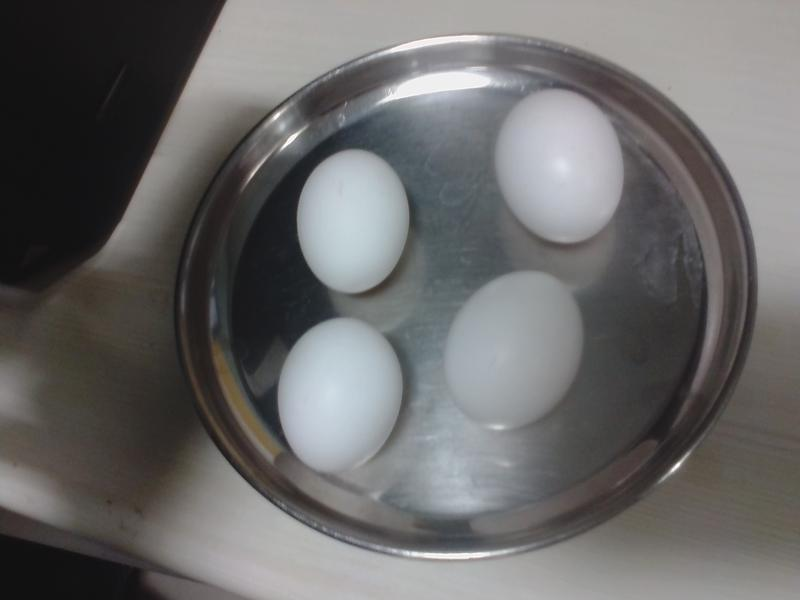egg: (293, 147, 409, 291)
